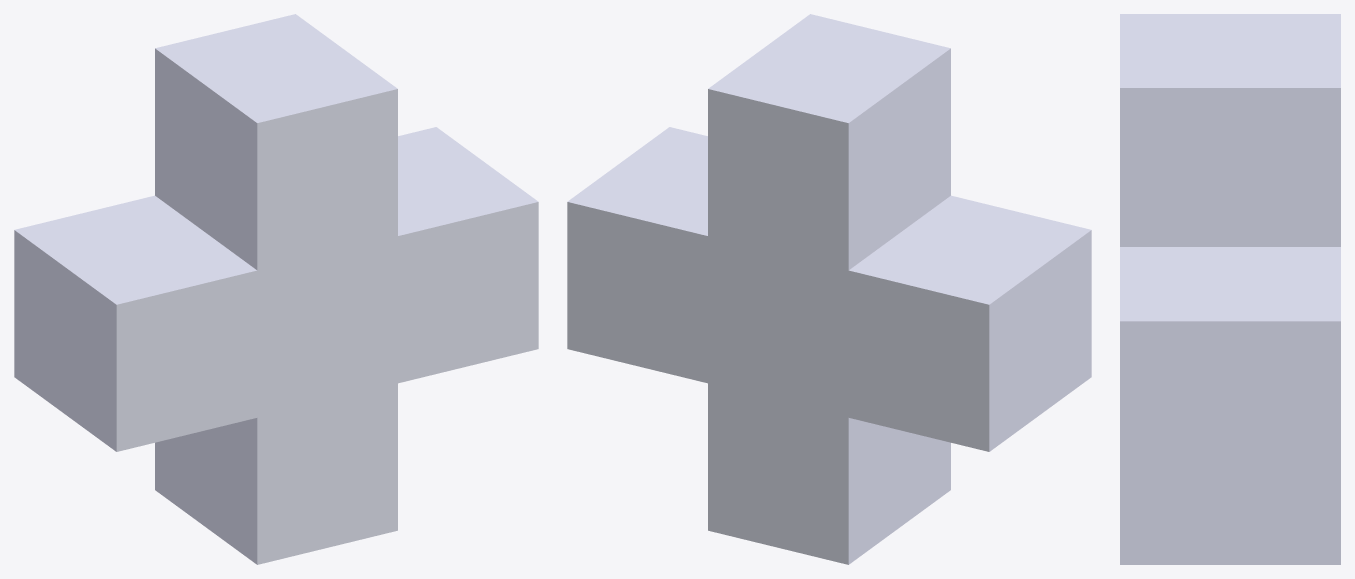
The model's file is 1545b874-586e-4c1b-afd9-054b077e2b53.glb.
3 renders of one model, left to right at view 1: azimuth 30°, elevation 25°; view 2: azimuth 150°, elevation 25°; view 3: azimuth 270°, elevation 25°, orthographic. The views are drawn at different scales.
Parts seen in each view (by area): view 1: +_DeltaBlock_Grey; view 2: +_DeltaBlock_Grey; view 3: +_DeltaBlock_Grey.
Part boxes in pixels (left/top/right/bottom): +_DeltaBlock_Grey: left=14, top=14, right=538, bottom=564; +_DeltaBlock_Grey: left=567, top=14, right=1091, bottom=564; +_DeltaBlock_Grey: left=1120, top=14, right=1340, bottom=564.
Size of what is drawn, in the model's own units: 0.1071 by 0.1071 by 0.045.
Materials: 2 (2 with a texture image).
